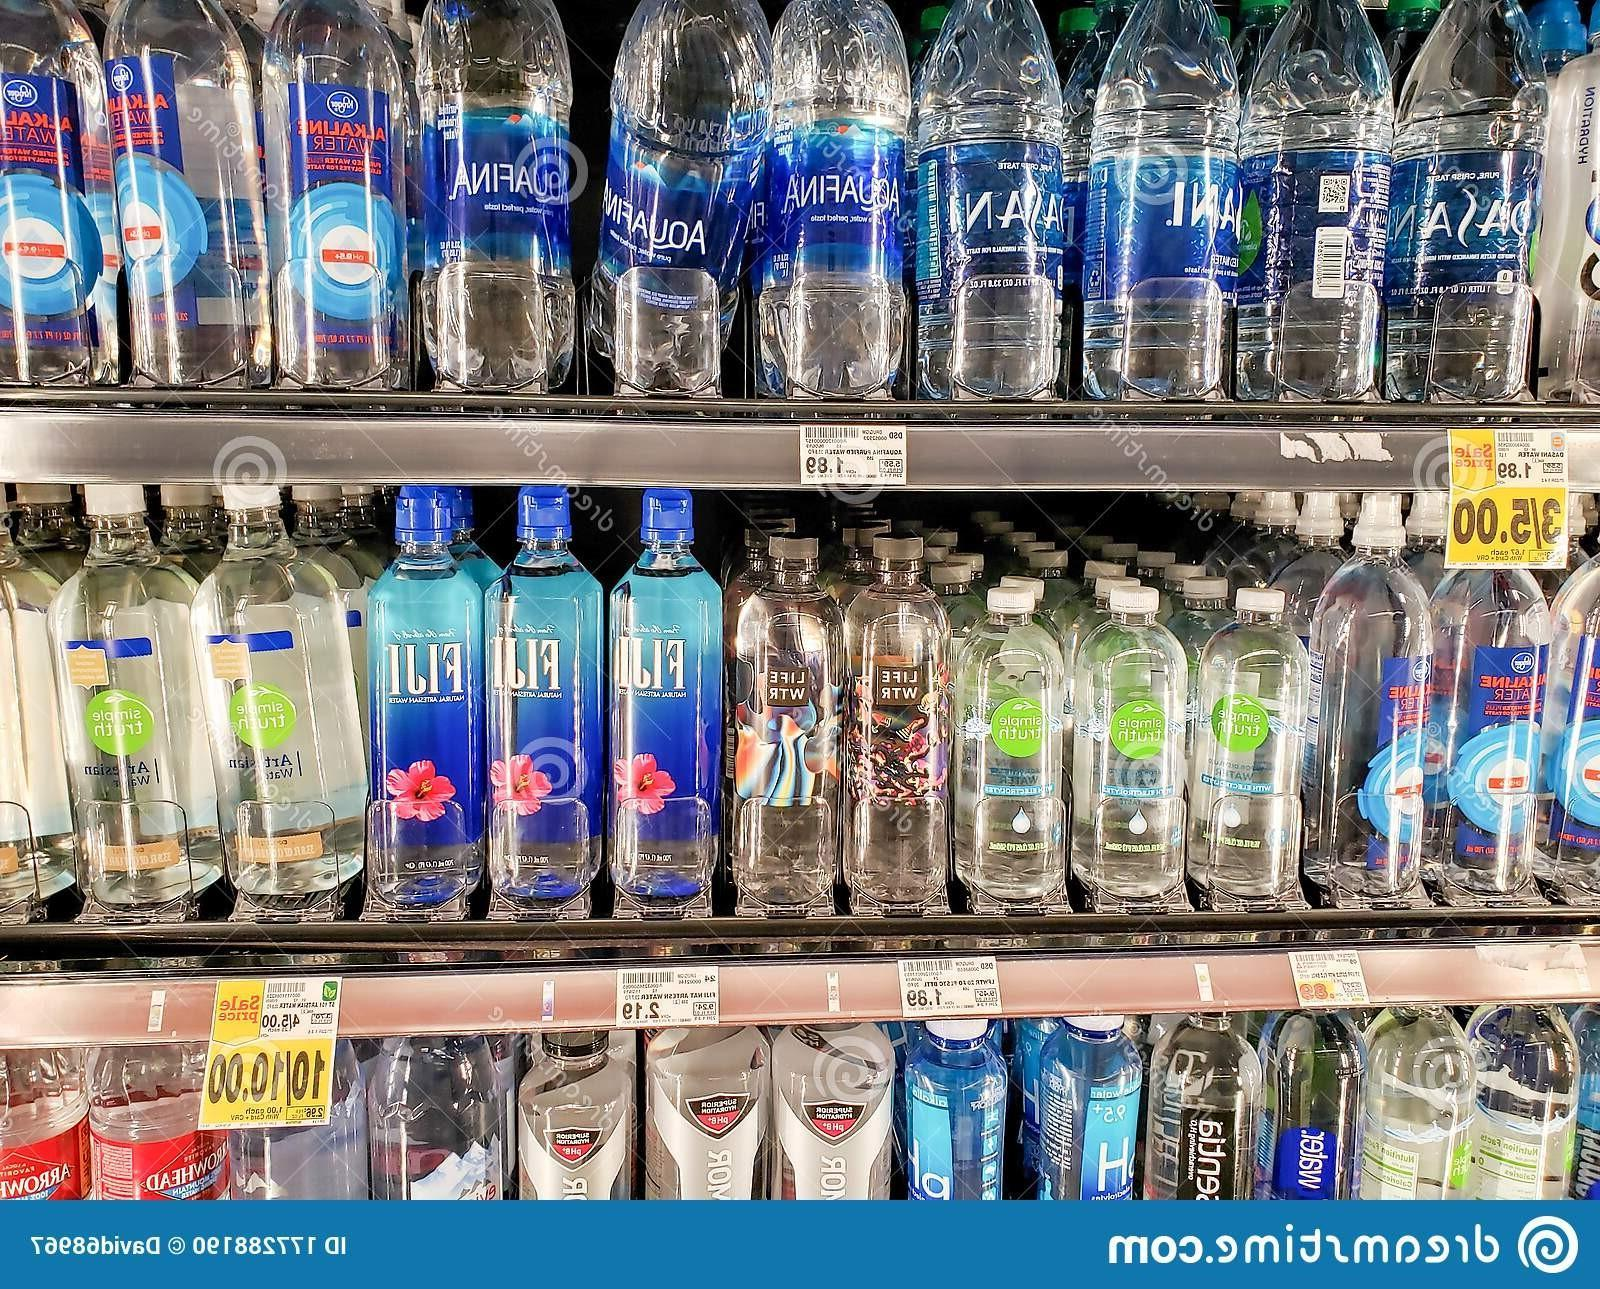bottle: (581, 0, 772, 393), (204, 484, 368, 908), (49, 479, 208, 908), (912, 0, 1074, 393), (1085, 0, 1238, 405), (109, 0, 266, 387), (1241, 0, 1388, 400), (427, 0, 576, 391), (770, 0, 911, 405), (271, 0, 417, 383), (1306, 487, 1436, 909), (488, 484, 609, 923), (1395, 0, 1528, 400), (609, 484, 726, 915), (372, 484, 488, 912), (0, 0, 125, 396), (731, 531, 843, 914), (841, 529, 953, 905), (1070, 576, 1194, 906), (1192, 580, 1316, 904), (953, 585, 1071, 904), (1434, 571, 1546, 898), (365, 1034, 517, 1205), (1536, 0, 1600, 399), (83, 1044, 235, 1200), (768, 1026, 901, 1202), (636, 1030, 773, 1201), (1141, 1015, 1259, 1200), (509, 1031, 638, 1200), (1466, 1000, 1572, 1202), (1256, 1010, 1361, 1198), (252, 1036, 365, 1200), (1040, 1017, 1139, 1201), (1367, 1010, 1462, 1201), (908, 1018, 1006, 1202), (0, 1036, 92, 1207)
